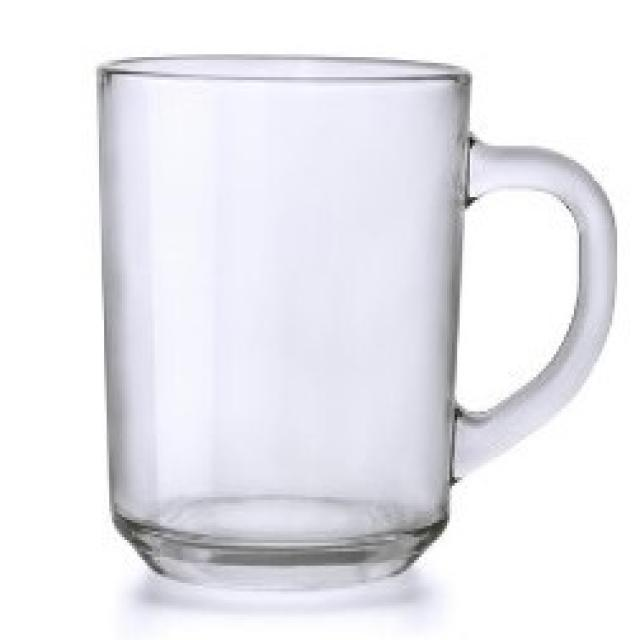electronic: (93, 46, 617, 598)
